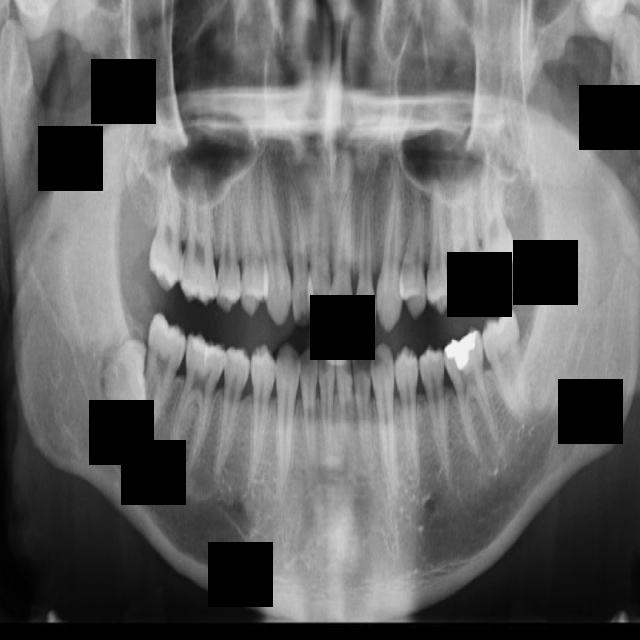52: (177, 327, 236, 379), (432, 325, 491, 376)
73: (600, 582, 604, 588)
BioHorizons Implant: (477, 150, 518, 285)
Blue Sky Bio Implant: (478, 305, 531, 425)
Caries: (149, 163, 185, 291)
Implant: (133, 310, 192, 432)
Keystone Dental Implant: (101, 337, 149, 410)
